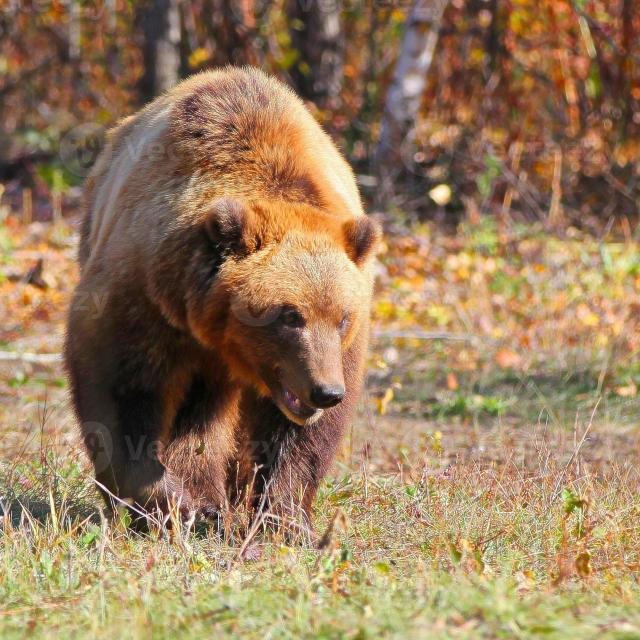Bear: (62, 67, 385, 544)
